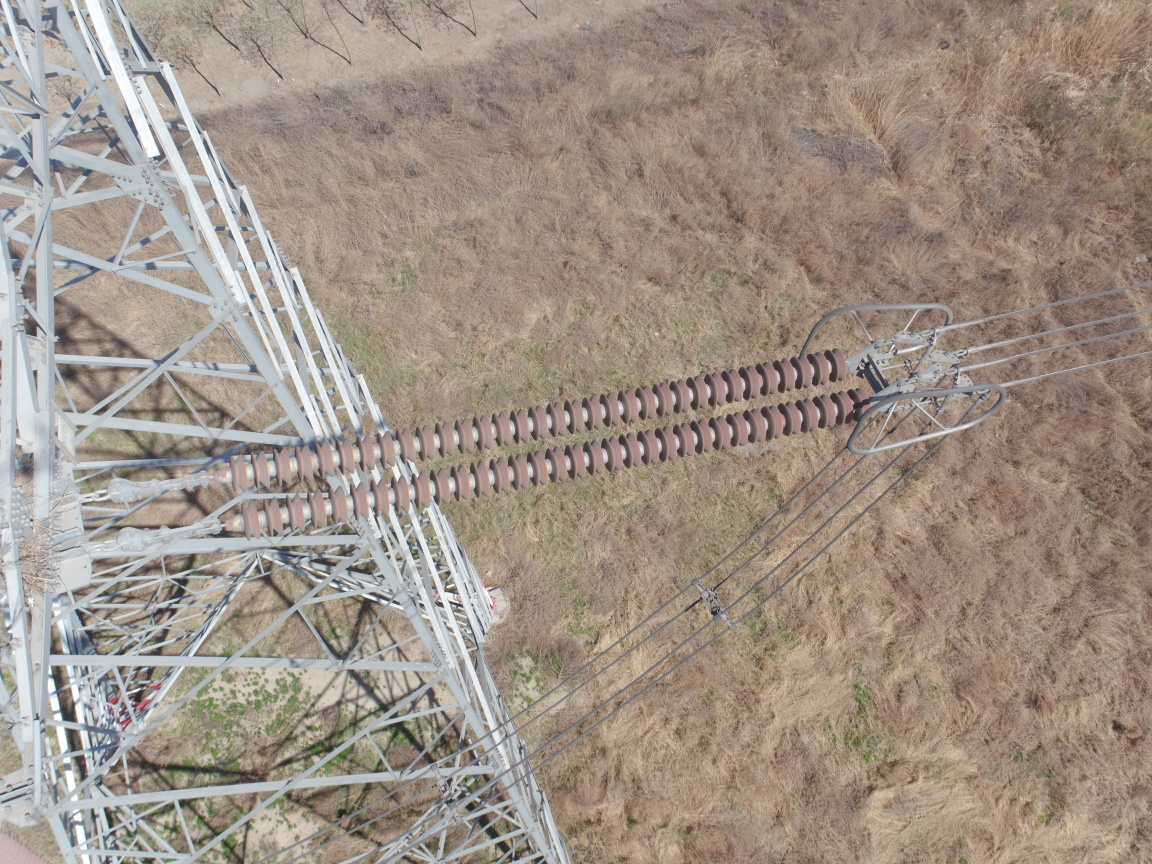insulator: (182, 344, 887, 542)
